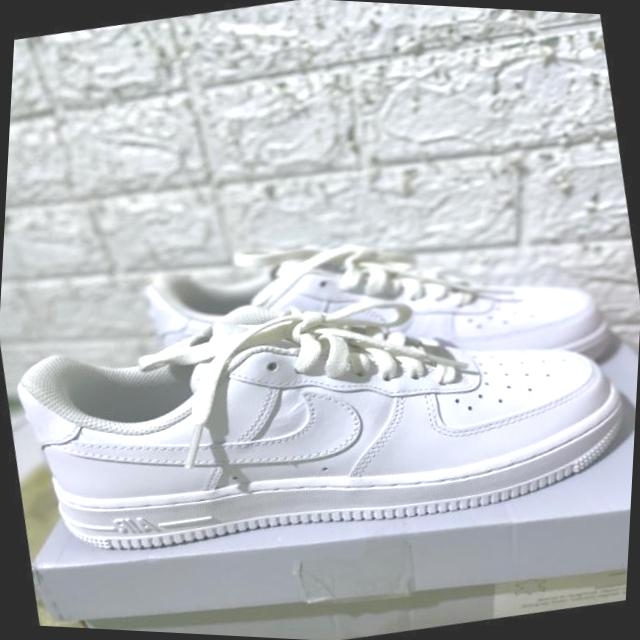nike_original_airforce: (0, 240, 640, 601), (112, 180, 627, 452)
